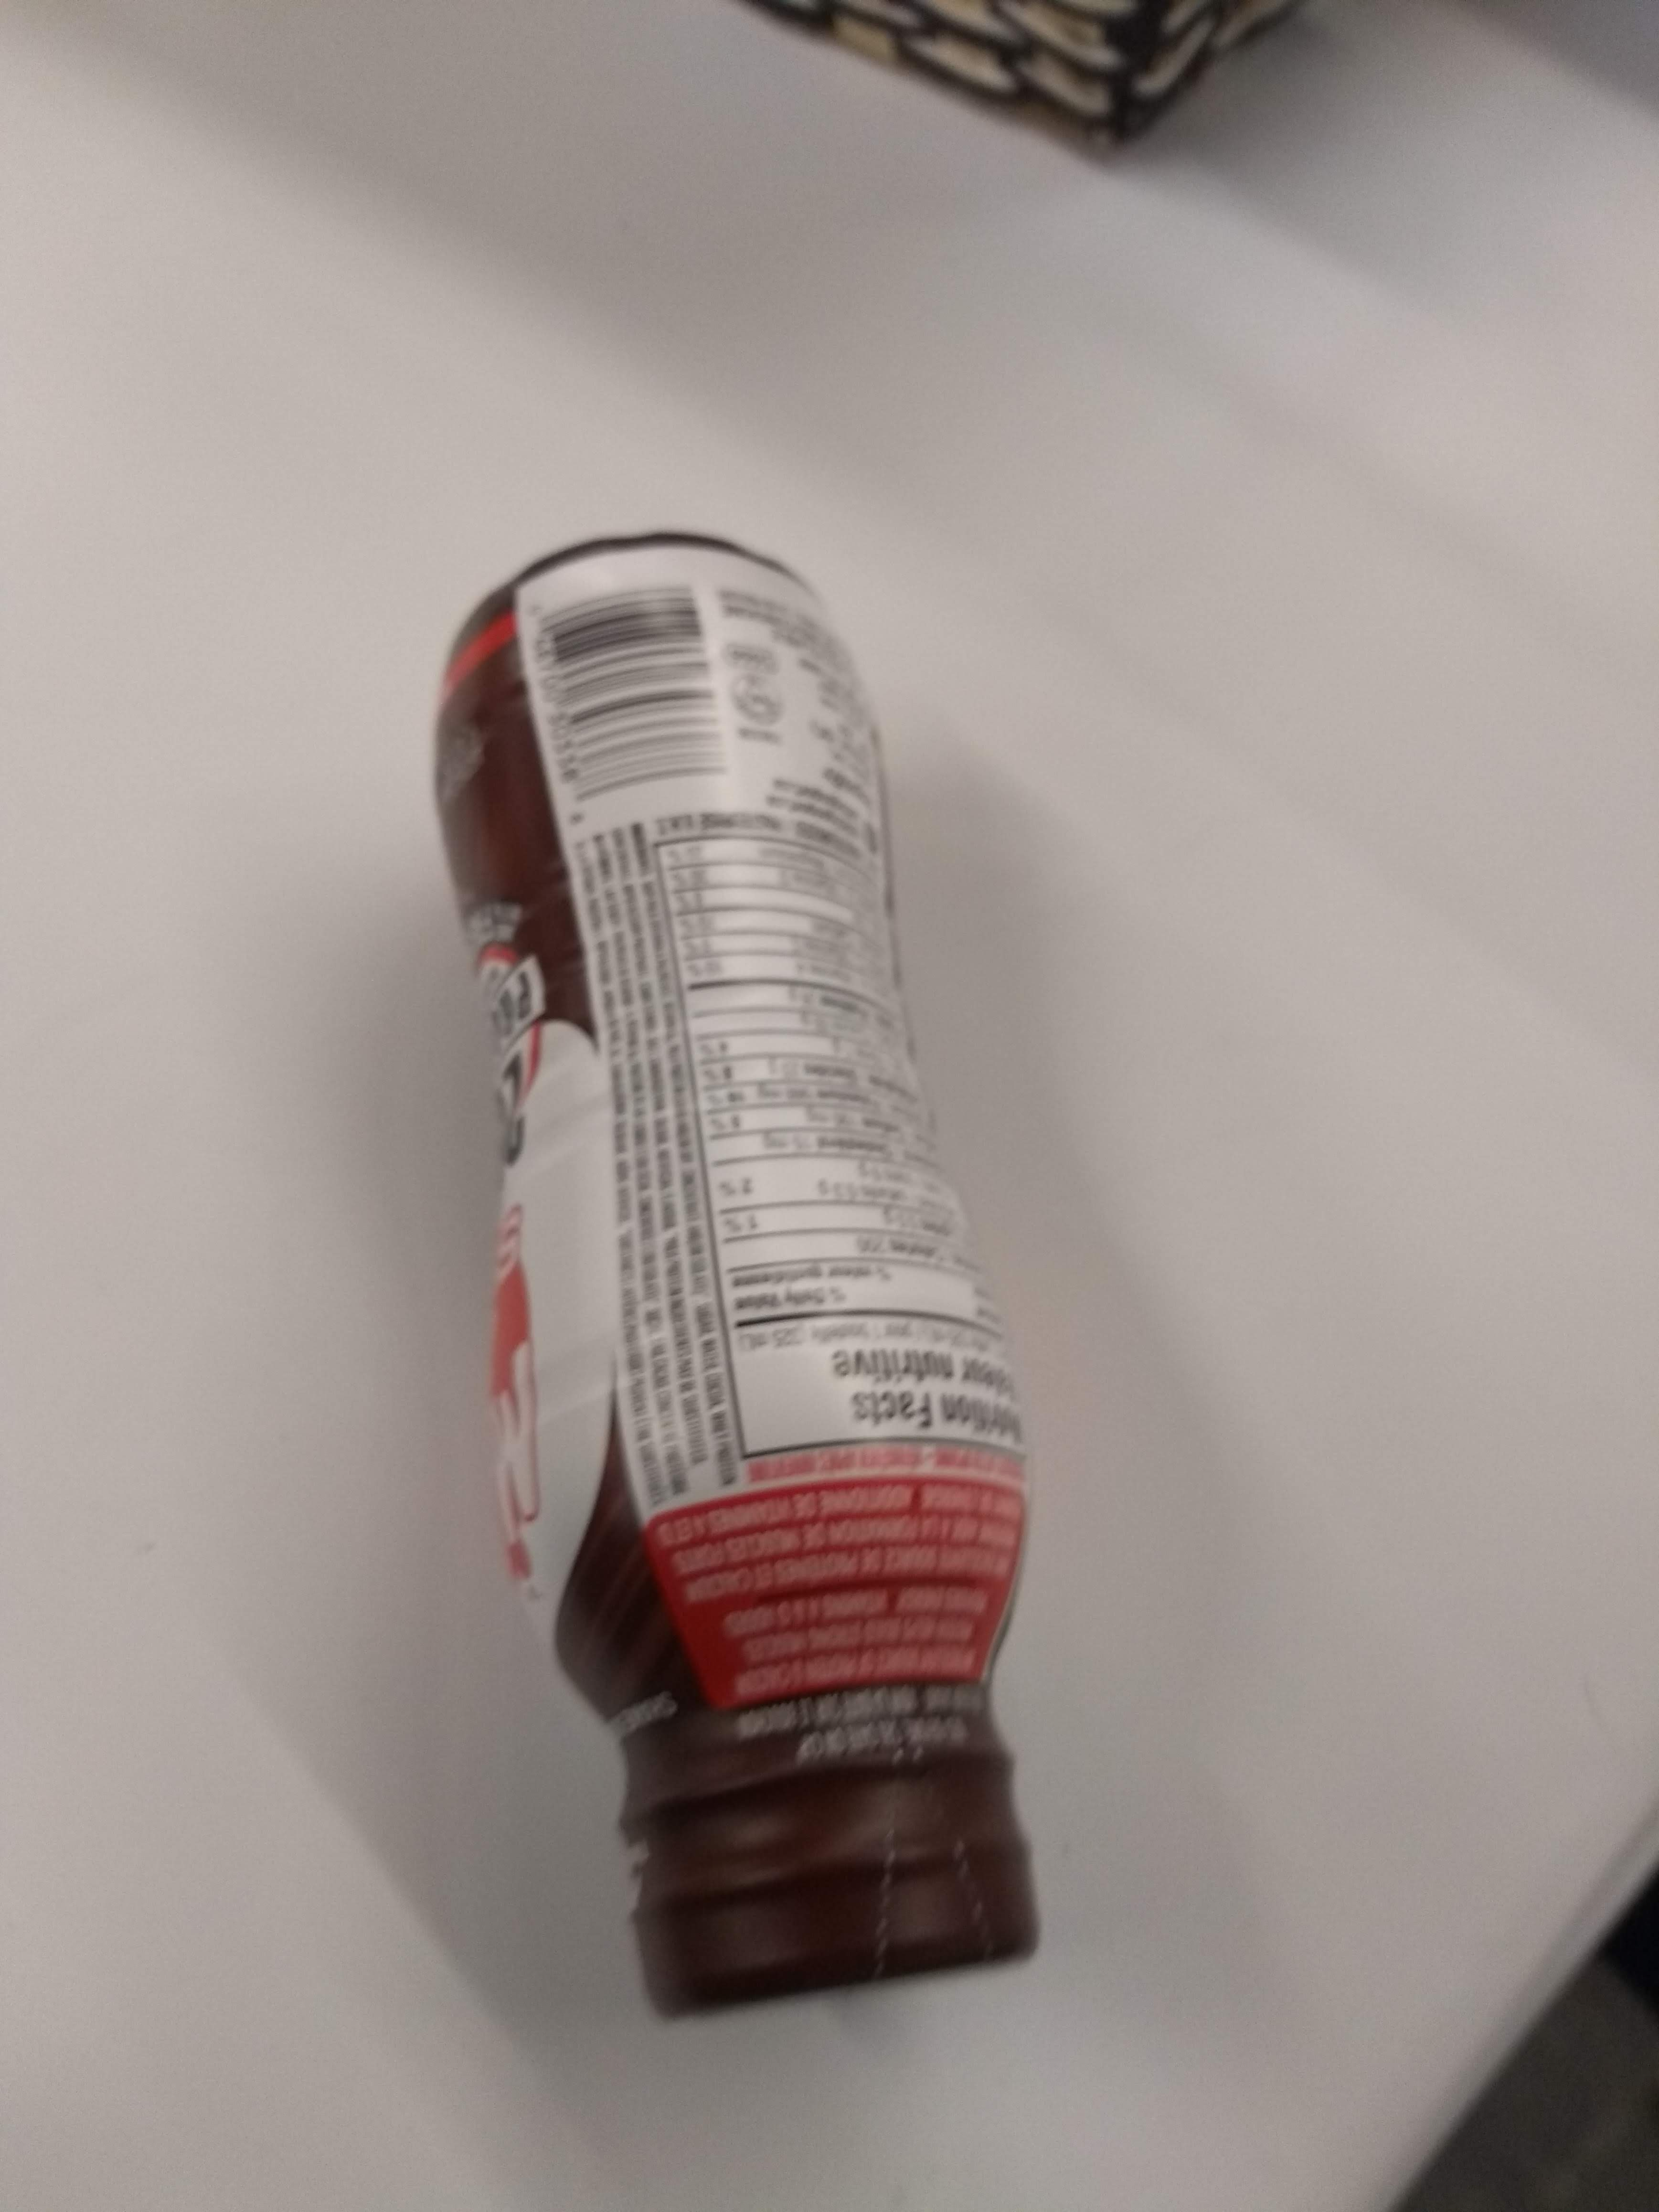chocolate_drink: (408, 510, 1110, 2036)
